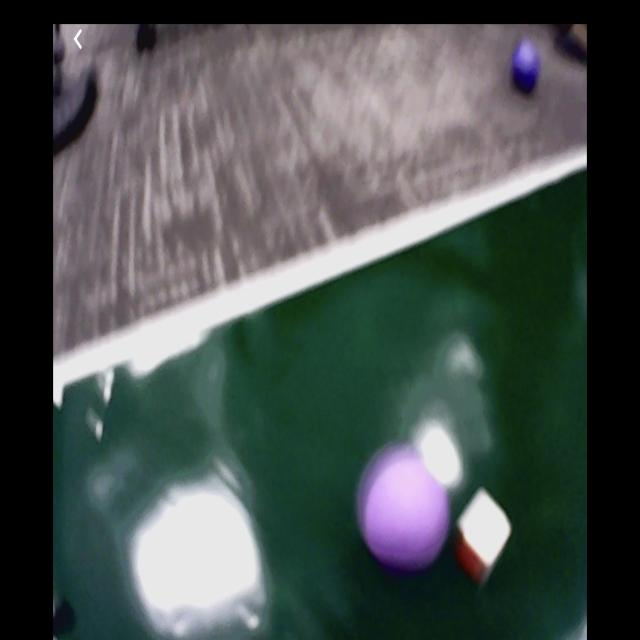ball: (365, 460, 450, 566), (513, 47, 540, 95)
